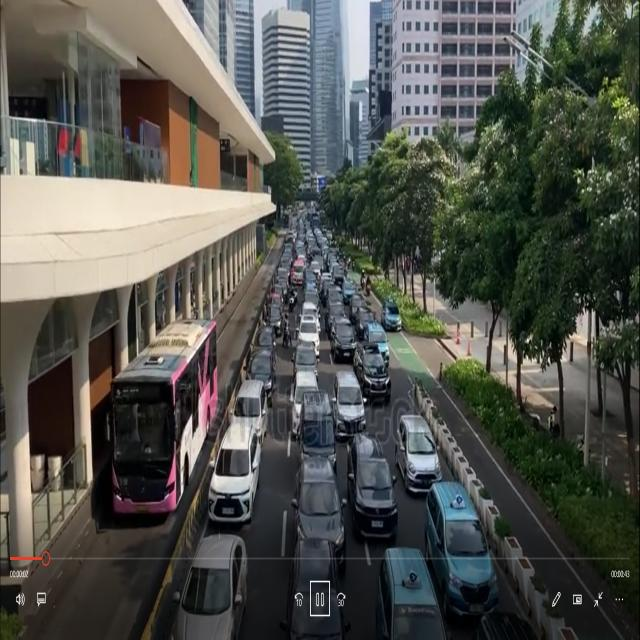Ambulance: (291, 258, 306, 287)
